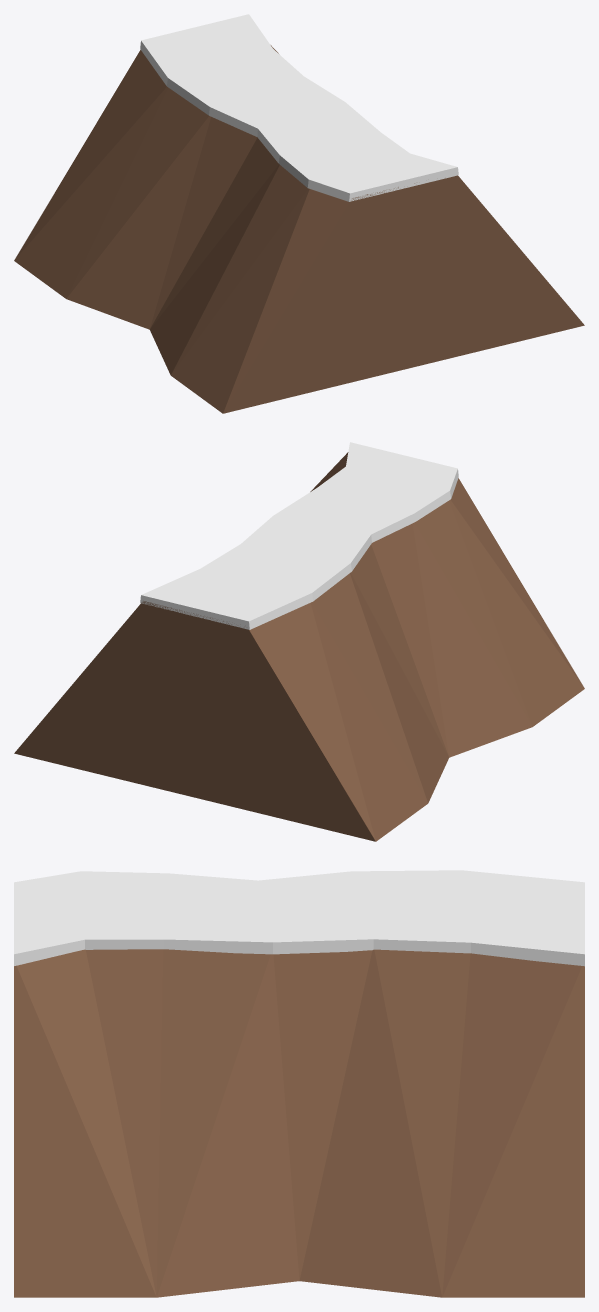
File: Path_01.fbx
3 renders of one model, top to bottom at view 1: azimuth 30°, elevation 25°; view 2: azimuth 150°, elevation 25°; view 3: azimuth 270°, elevation 25°, orthographic. The views are drawn at different scales.
Parts seen in each view (by area): view 1: Path_01; view 2: Path_01; view 3: Path_01.
Part boxes in pixels (box(x1,y1,x2,y2)): Path_01: box(14, 14, 584, 413); Path_01: box(14, 442, 584, 841); Path_01: box(14, 870, 584, 1297).
Size of the model in its own units: 200 by 100 by 200.
Materials: 2 (1 with a texture image).
